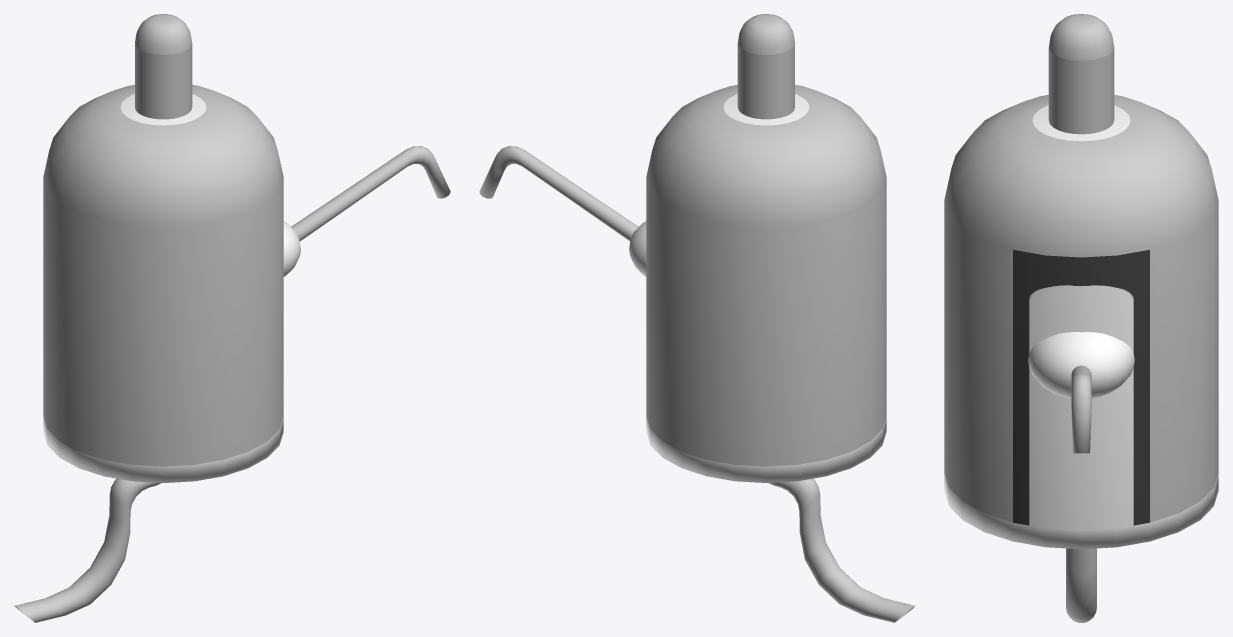
File: Dispenser_Water.fbx
3 views of the same model, side by side, from view 1: azimuth 30°, elevation 25°; view 2: azimuth 150°, elevation 25°; view 3: azimuth 270°, elevation 25° (orthographic). The views are drawn at different scales.
Parts seen in each view (by area): view 1: DispenserWater, DW_TubeIn, DW_Button, DW_TubeOut, DW_ButtonHead; view 2: DispenserWater, DW_TubeIn, DW_Button, DW_TubeOut, DW_ButtonHead; view 3: DispenserWater, DW_Button, DW_ButtonHead, DW_TubeIn, DW_TubeOut.
Boxes of the visible parts, left/top/right/bottom form: DispenserWater: left=43, top=85, right=300, bottom=482; DW_TubeIn: left=14, top=478, right=161, bottom=622; DW_Button: left=135, top=43, right=192, bottom=119; DW_TubeOut: left=291, top=146, right=450, bottom=241; DW_ButtonHead: left=135, top=14, right=191, bottom=54; DispenserWater: left=629, top=85, right=886, bottom=482; DW_TubeIn: left=768, top=478, right=915, bottom=622; DW_Button: left=737, top=43, right=794, bottom=119; DW_TubeOut: left=479, top=146, right=638, bottom=241; DW_ButtonHead: left=738, top=14, right=794, bottom=54; DispenserWater: left=944, top=95, right=1218, bottom=549; DW_Button: left=1048, top=47, right=1114, bottom=134; DW_ButtonHead: left=1049, top=14, right=1113, bottom=60; DW_TubeIn: left=1066, top=548, right=1096, bottom=622; DW_TubeOut: left=1071, top=365, right=1091, bottom=453.
Size of the model in its own units: 279 by 351 by 134.
